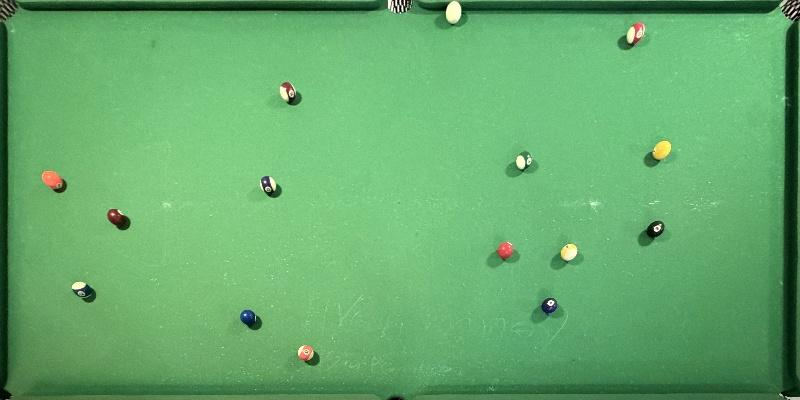bola: (39, 171, 65, 194), (624, 22, 648, 46), (441, 1, 464, 25), (513, 149, 535, 173), (69, 281, 96, 300), (276, 81, 299, 103), (650, 141, 673, 163), (257, 174, 279, 195), (103, 208, 126, 228), (538, 297, 560, 317), (646, 218, 666, 239), (559, 243, 579, 263), (295, 345, 317, 363), (496, 241, 514, 262), (238, 310, 259, 328)
